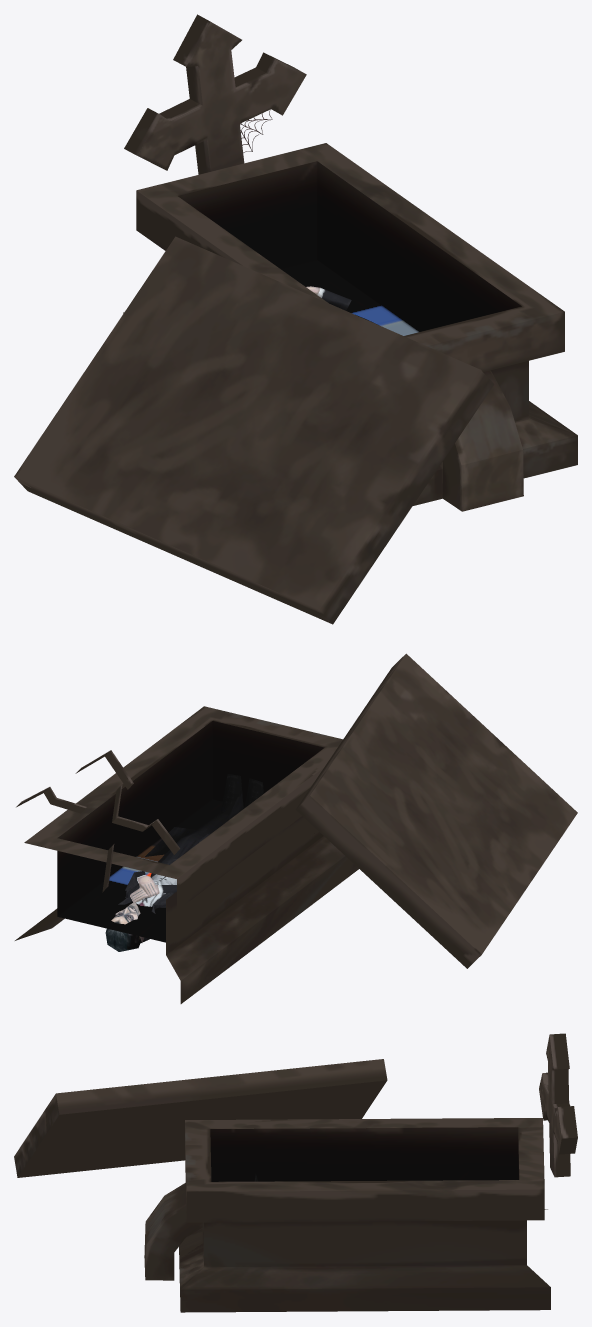
The model's file is vampire.gltf.
3 views of the same model, one above another, from view 1: azimuth 30°, elevation 25°; view 2: azimuth 150°, elevation 25°; view 3: azimuth 270°, elevation 25° (orthographic). The views are drawn at different scales.
Parts seen in each view (by area): view 1: Village_Meshes.020; view 2: Village_Meshes.020, vampire; view 3: Village_Meshes.020.
Boxes of the visible parts, x1,y1,x2,y2 form: Village_Meshes.020: [14, 14, 577, 624]; Village_Meshes.020: [15, 653, 577, 1003]; vampire: [105, 774, 263, 951]; Village_Meshes.020: [14, 1033, 577, 1312].
Size of the model in its own units: 3.51 by 2.18 by 4.85.
2 materials, 2 textured.
